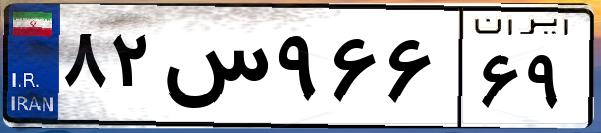2: (110, 28, 158, 98)
6: (385, 28, 445, 110), (330, 28, 385, 110), (475, 38, 525, 113)
8: (57, 26, 110, 100)
9: (270, 28, 330, 110), (525, 38, 570, 115)
س: (158, 20, 270, 120)
